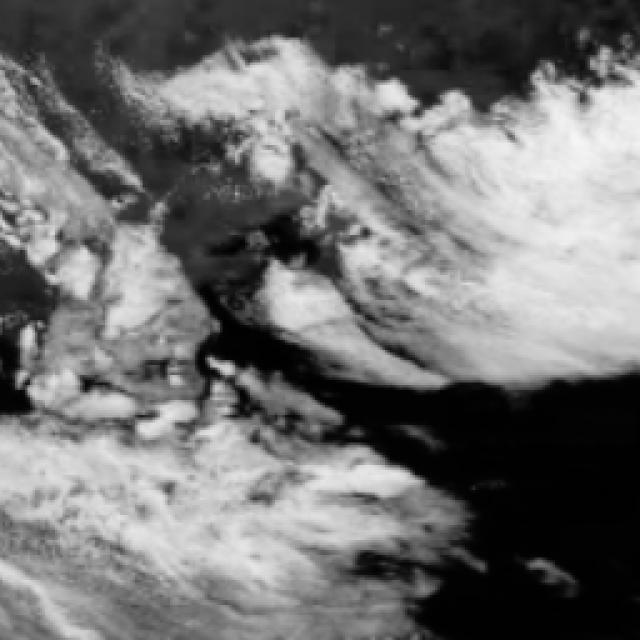CB: (547, 138, 640, 370)
